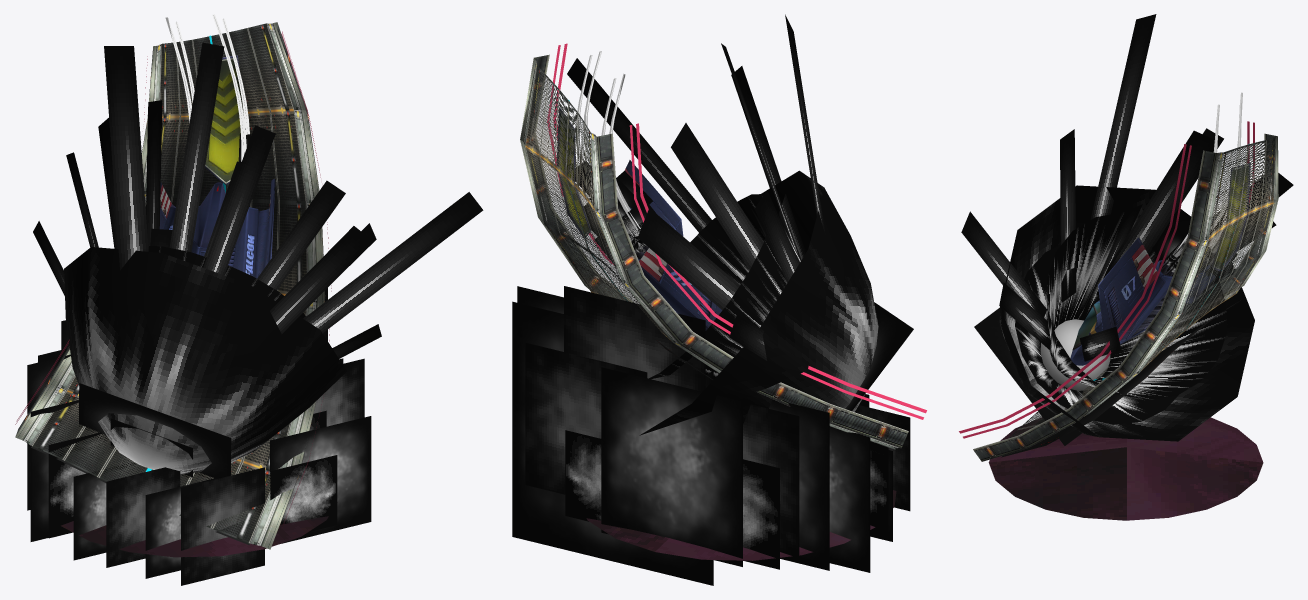
Rendered from Blue Falcon.fbx.
The picture shows the model from 3 angles, left to right: view 1: azimuth 30°, elevation 25°; view 2: azimuth 150°, elevation 25°; view 3: azimuth 270°, elevation 25°; orthographic projection. The views are drawn at different scales.
Visible parts, largest first — view 1: DolBluefalcon:polygon18, DolBluefalcon:polygon99, DolBluefalcon:polygon104, DolBluefalcon:polygon12, DolBluefalcon:polygon96, DolBluefalcon:polygon85, DolBluefalcon:polygon1, DolBluefalcon:polygon6, DolBluefalcon:polygon95, DolBluefalcon:polygon14, DolBluefalcon:polygon100, DolBluefalcon:polygon75 (+22 smaller); view 2: DolBluefalcon:polygon90, DolBluefalcon:polygon18, DolBluefalcon:polygon99, DolBluefalcon:polygon89, DolBluefalcon:polygon102, DolBluefalcon:polygon94, DolBluefalcon:polygon92, DolBluefalcon:polygon16, DolBluefalcon:polygon88, DolBluefalcon:polygon93, DolBluefalcon:polygon98, DolBluefalcon:polygon2 (+25 smaller); view 3: DolBluefalcon:polygon54, DolBluefalcon:polygon18, DolBluefalcon:polygon16, DolBluefalcon:polygon99, DolBluefalcon:polygon102, DolBluefalcon:polygon17, DolBluefalcon:polygon12, DolBluefalcon:polygon2, DolBluefalcon:polygon14, DolBluefalcon:polygon73, DolBluefalcon:polygon105, DolBluefalcon:polygon7 (+14 smaller).
Part boxes in pixels (x1,y1,x2,y2): DolBluefalcon:polygon18: (64, 247, 346, 474); DolBluefalcon:polygon99: (31, 23, 307, 543); DolBluefalcon:polygon104: (31, 25, 306, 544); DolBluefalcon:polygon12: (104, 46, 148, 270); DolBluefalcon:polygon96: (181, 467, 264, 585); DolBluefalcon:polygon85: (270, 416, 371, 543); DolBluefalcon:polygon1: (303, 192, 483, 332); DolBluefalcon:polygon6: (169, 42, 224, 251); DolBluefalcon:polygon95: (106, 467, 180, 567); DolBluefalcon:polygon14: (79, 383, 231, 479); DolBluefalcon:polygon100: (23, 23, 316, 545); DolBluefalcon:polygon75: (270, 455, 337, 531); DolBluefalcon:polygon90: (601, 367, 742, 566); DolBluefalcon:polygon18: (639, 170, 878, 435); DolBluefalcon:polygon99: (525, 65, 891, 448); DolBluefalcon:polygon89: (512, 301, 713, 585); DolBluefalcon:polygon102: (526, 54, 908, 448); DolBluefalcon:polygon94: (525, 342, 647, 494); DolBluefalcon:polygon92: (564, 286, 705, 391); DolBluefalcon:polygon16: (649, 194, 800, 379); DolBluefalcon:polygon88: (829, 426, 870, 572); DolBluefalcon:polygon93: (769, 399, 829, 570); DolBluefalcon:polygon98: (743, 404, 799, 559); DolBluefalcon:polygon2: (671, 123, 763, 269); DolBluefalcon:polygon54: (988, 417, 1263, 520); DolBluefalcon:polygon18: (999, 185, 1254, 441); DolBluefalcon:polygon16: (1047, 212, 1226, 399); DolBluefalcon:polygon99: (1008, 138, 1275, 438); DolBluefalcon:polygon102: (973, 133, 1277, 461); DolBluefalcon:polygon17: (1015, 244, 1178, 424); DolBluefalcon:polygon12: (1090, 14, 1156, 219); DolBluefalcon:polygon2: (1096, 130, 1219, 295); DolBluefalcon:polygon14: (974, 307, 1110, 445); DolBluefalcon:polygon73: (1098, 216, 1216, 340); DolBluefalcon:polygon105: (959, 121, 1254, 438); DolBluefalcon:polygon7: (961, 211, 1047, 317).
Bounding box in the file's own units: 24.17 × 29.46 × 19.17.
44 materials, 43 textured.
